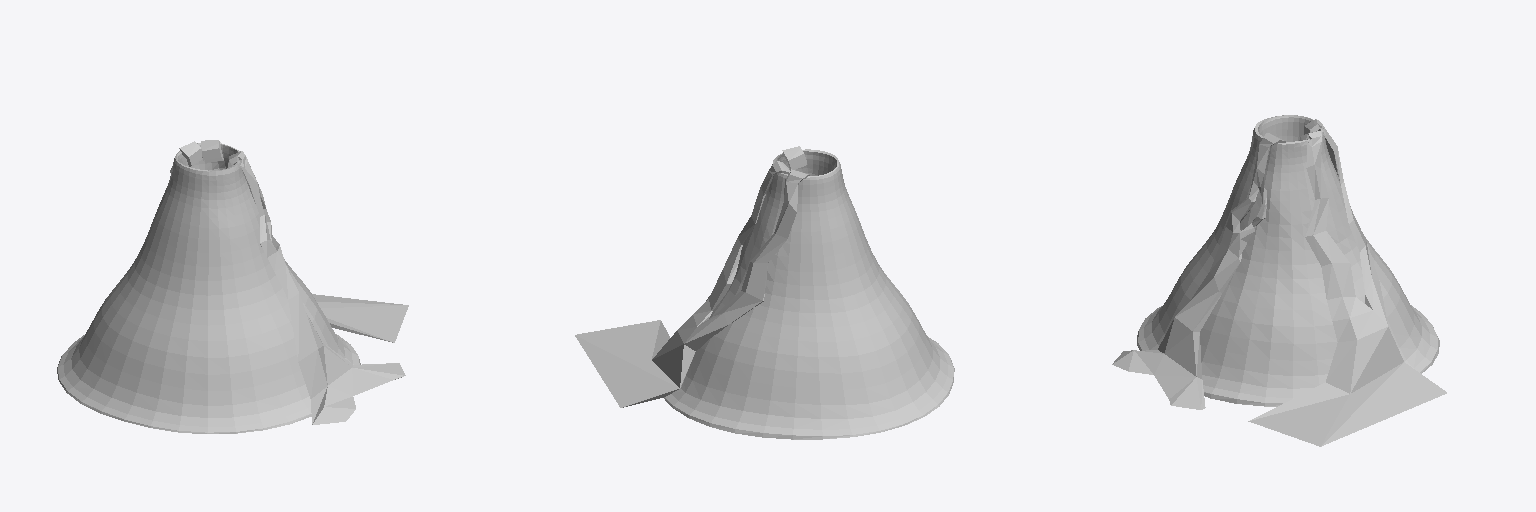
The model's file is Volcano.obj.
3 views of the same model, side by side, from view 1: azimuth 30°, elevation 25°; view 2: azimuth 150°, elevation 25°; view 3: azimuth 270°, elevation 25° (orthographic).
Visible parts, largest first — view 1: Cube; view 2: Cube; view 3: Cube.
Part boxes in pixels (left/top/right/bottom): Cube: left=57, top=140, right=408, bottom=433; Cube: left=575, top=146, right=954, bottom=439; Cube: left=1112, top=115, right=1446, bottom=446.
Size of the model in its own units: 76.01 by 46.55 by 63.88.